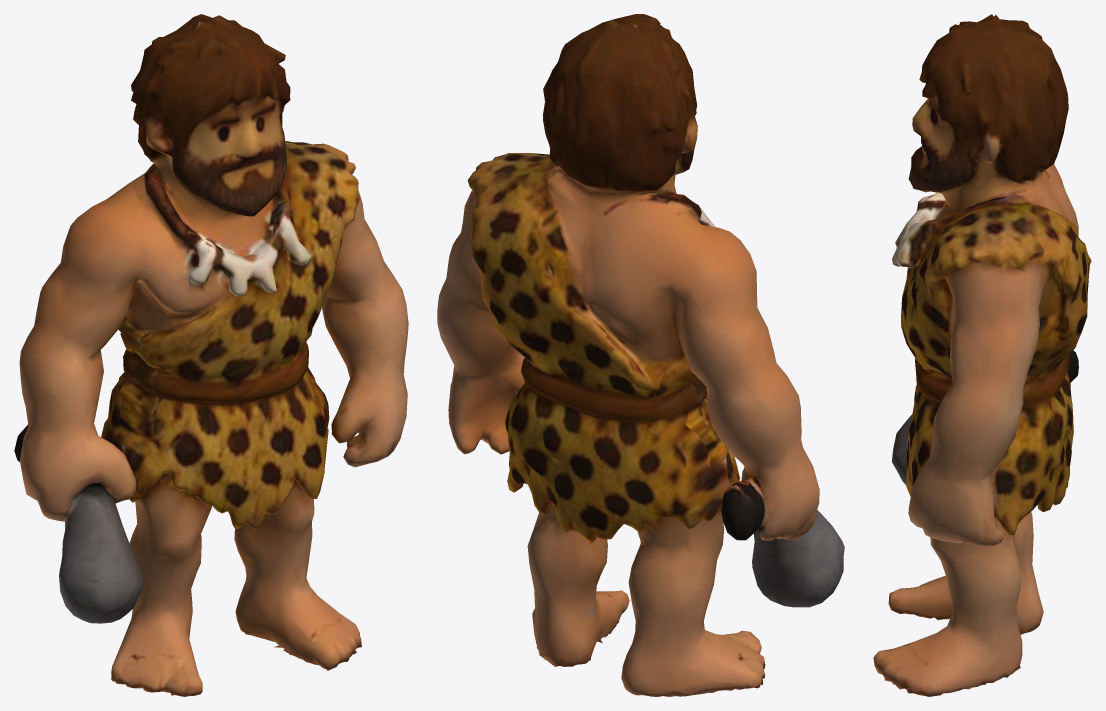
File: char_hero_caveman.glb
3 renders of one model, left to right at view 1: azimuth 30°, elevation 25°; view 2: azimuth 150°, elevation 25°; view 3: azimuth 270°, elevation 25°, orthographic. The views are drawn at different scales.
Visible parts, largest first — view 1: geometry_0; view 2: geometry_0; view 3: geometry_0.
Boxes of the visible parts, x1=… form: geometry_0: x1=14, y1=14, x2=408, y2=696; geometry_0: x1=437, y1=14, x2=844, y2=696; geometry_0: x1=873, y1=14, x2=1091, y2=696.
Size of the model in its own units: 1.19 by 1.95 by 0.6196.
Materials: 1 (1 with a texture image).
